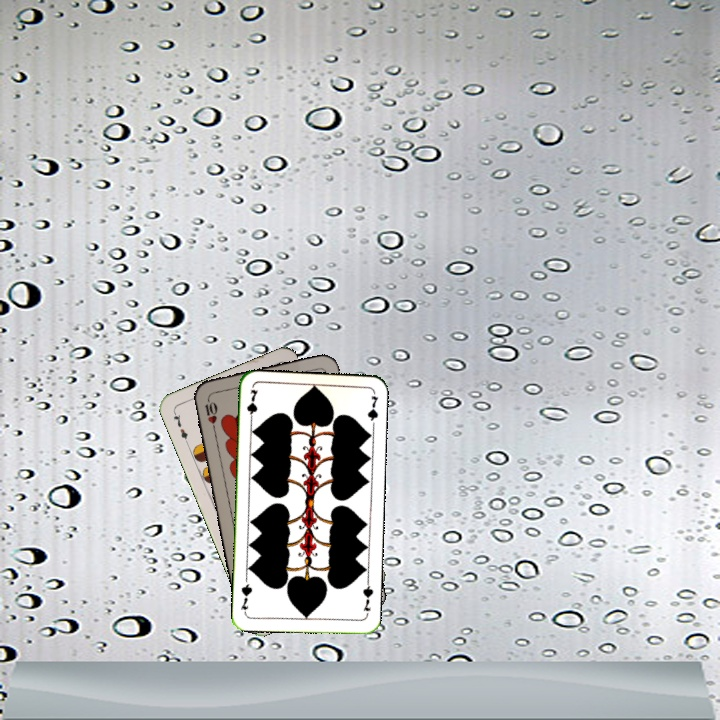E7: (169, 407, 191, 447)
G7: (243, 385, 260, 426), (359, 578, 376, 614)
H10: (200, 393, 220, 433)
